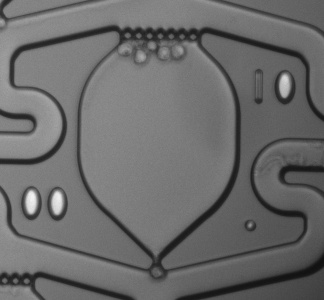AptNum: (239, 64, 299, 112)
Marker: (240, 215, 262, 236)
StNum: (14, 178, 78, 229)
Trap: (129, 257, 186, 300)
